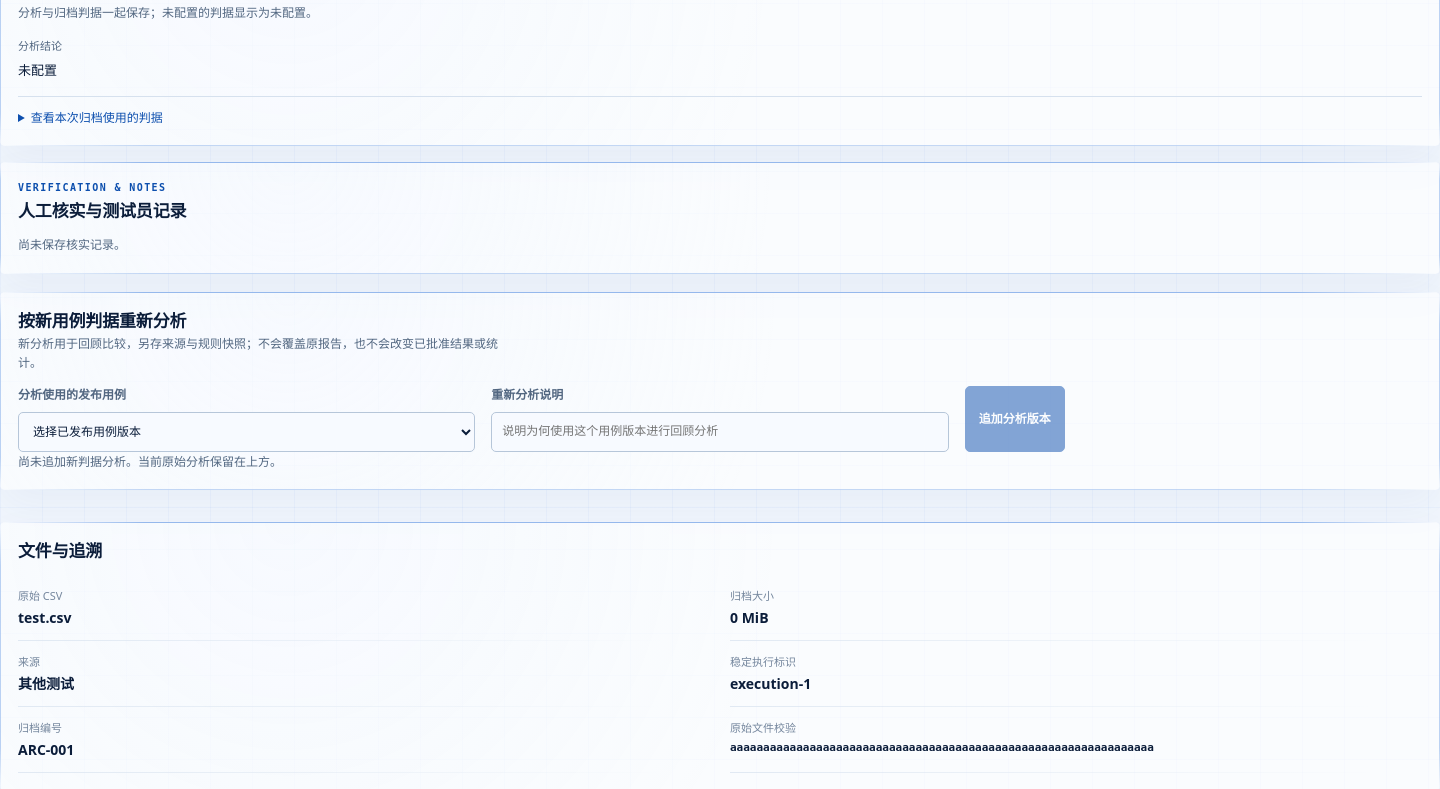
Test case: appends a published-rule analysis on an approved archive without reopening verification
This screenshot has width=1440, height=789.
(page scrolled)
Select "REL-LEG-001 · 负载试验 · 2" in the dropdown labelled "分析使用的发布用例" at coordinates (247, 432), box left=18, top=412, right=475, bottom=452
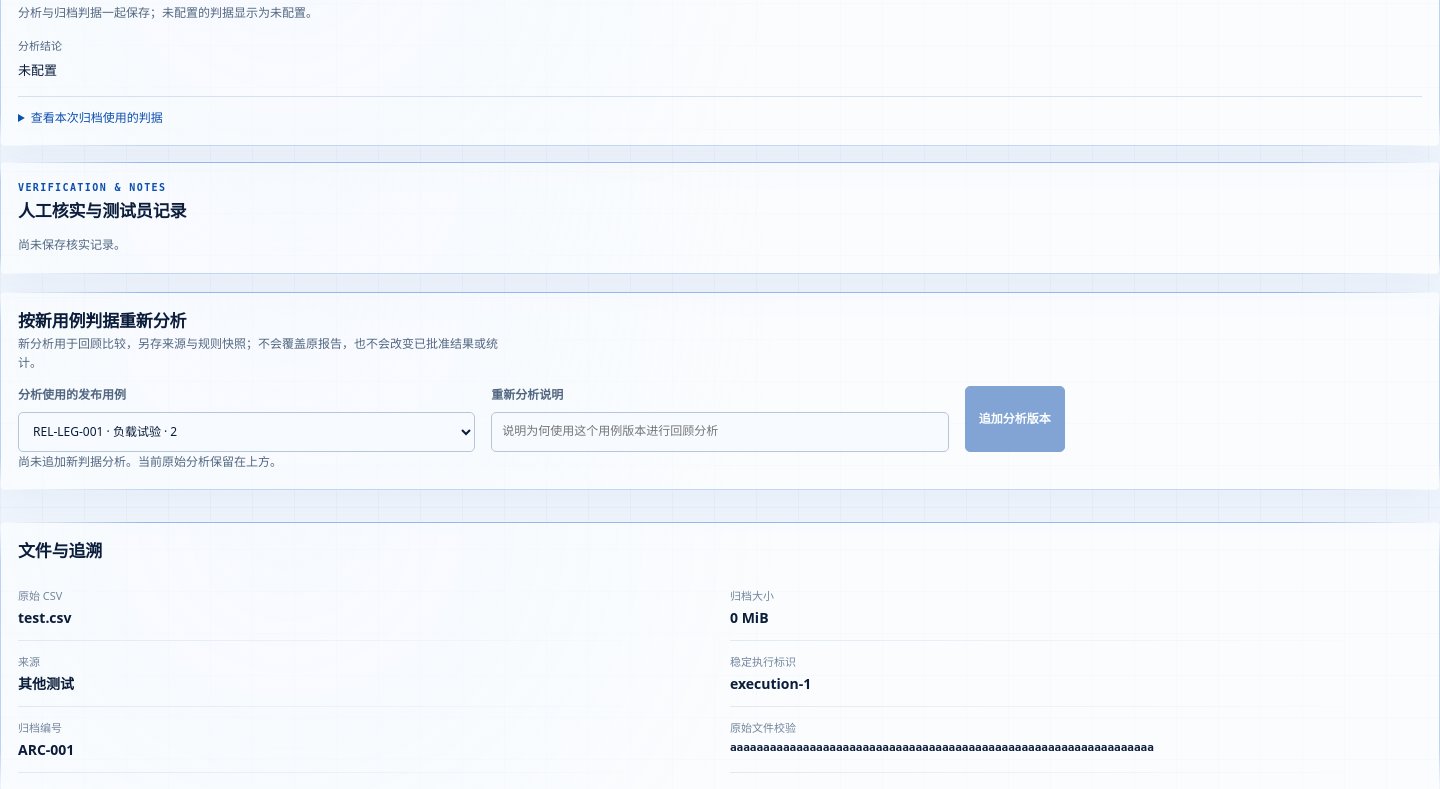
Type "回顾比较" into the field labelled "重新分析说明" at coordinates (720, 432), box left=491, top=412, right=949, bottom=452
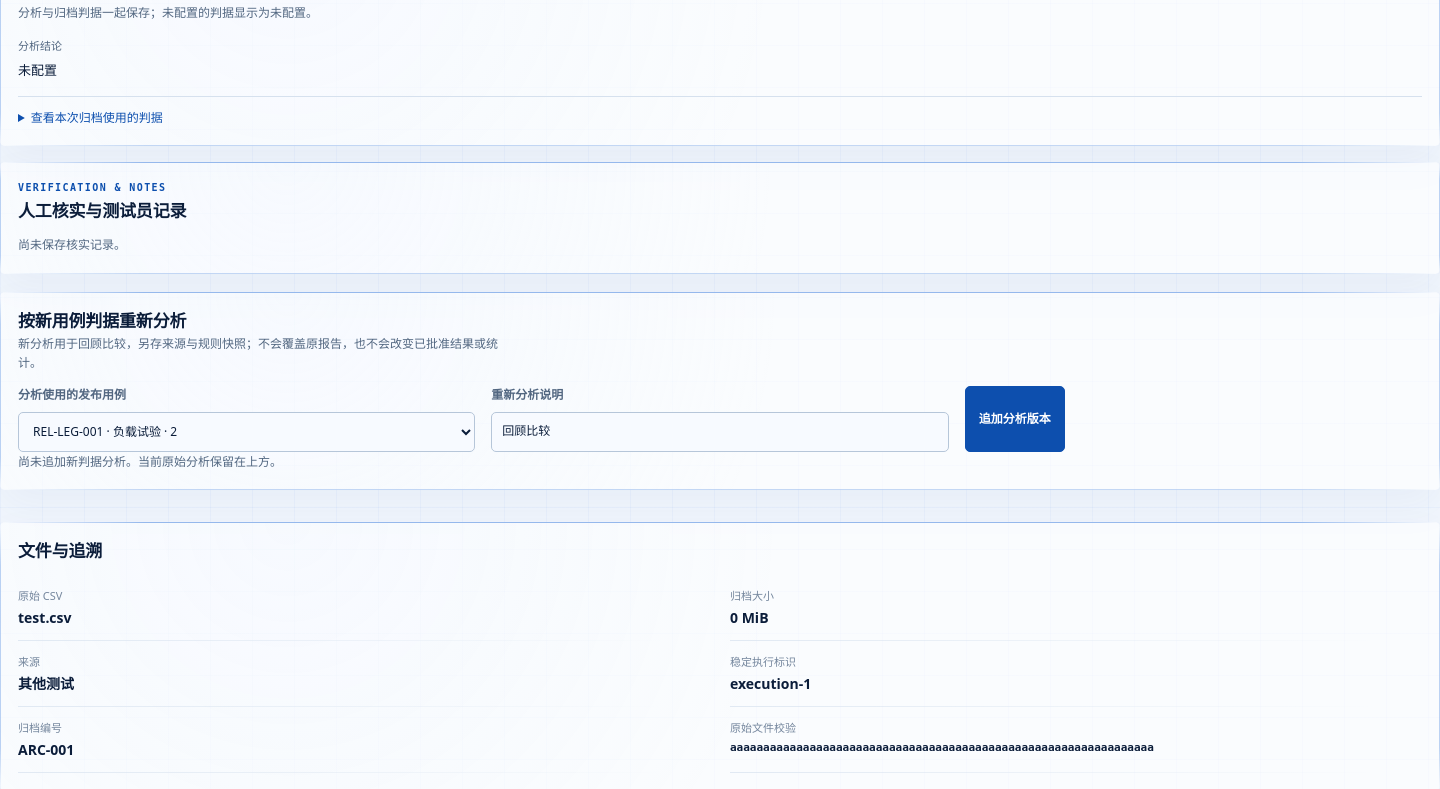
Click the button "追加分析版本" at coordinates (1015, 419), box left=965, top=386, right=1065, bottom=452
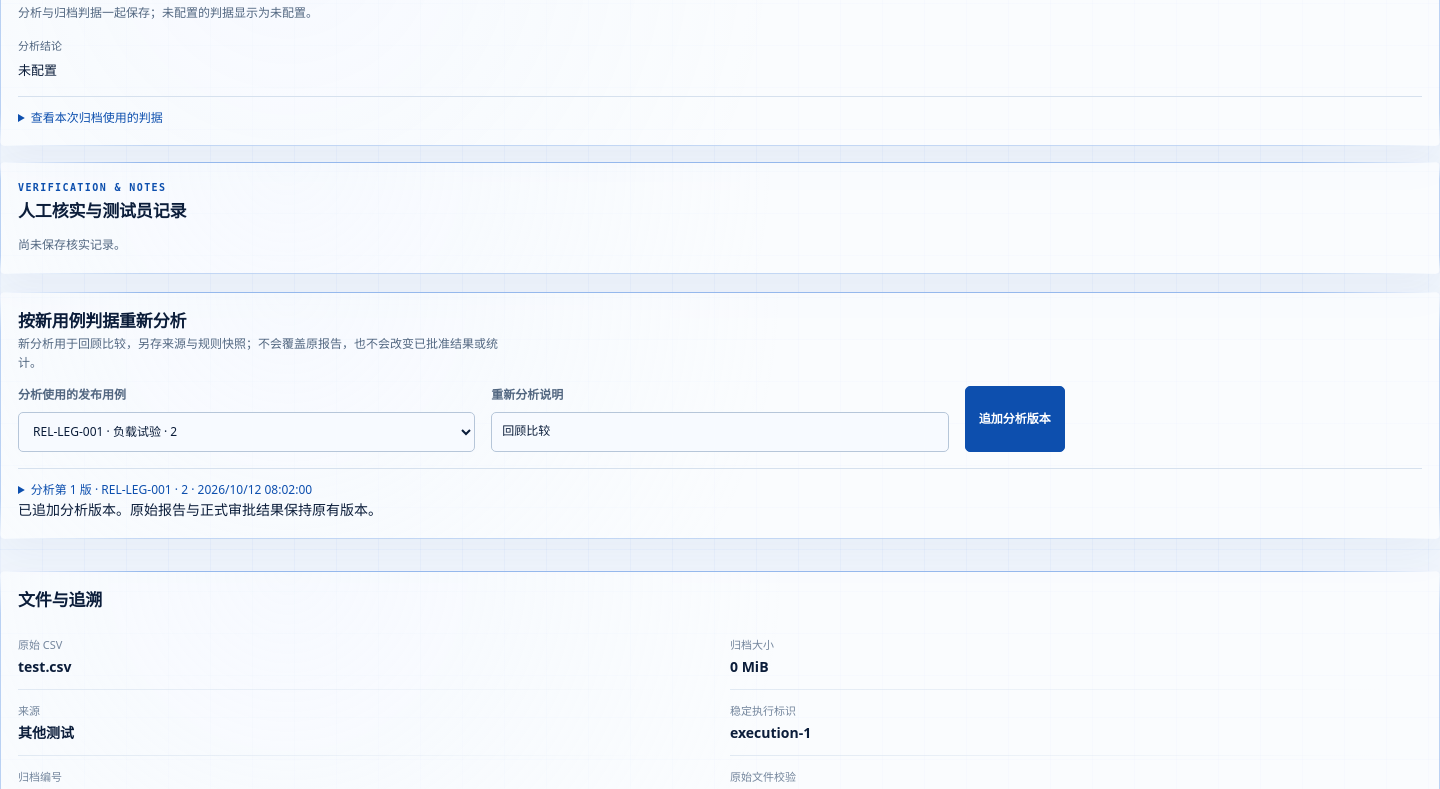
Now the heading "分析第 1 版 · REL-LEG-001 · 2 · 2026/10/12 08:02:00" is shown, box left=31, top=481, right=312, bottom=498
